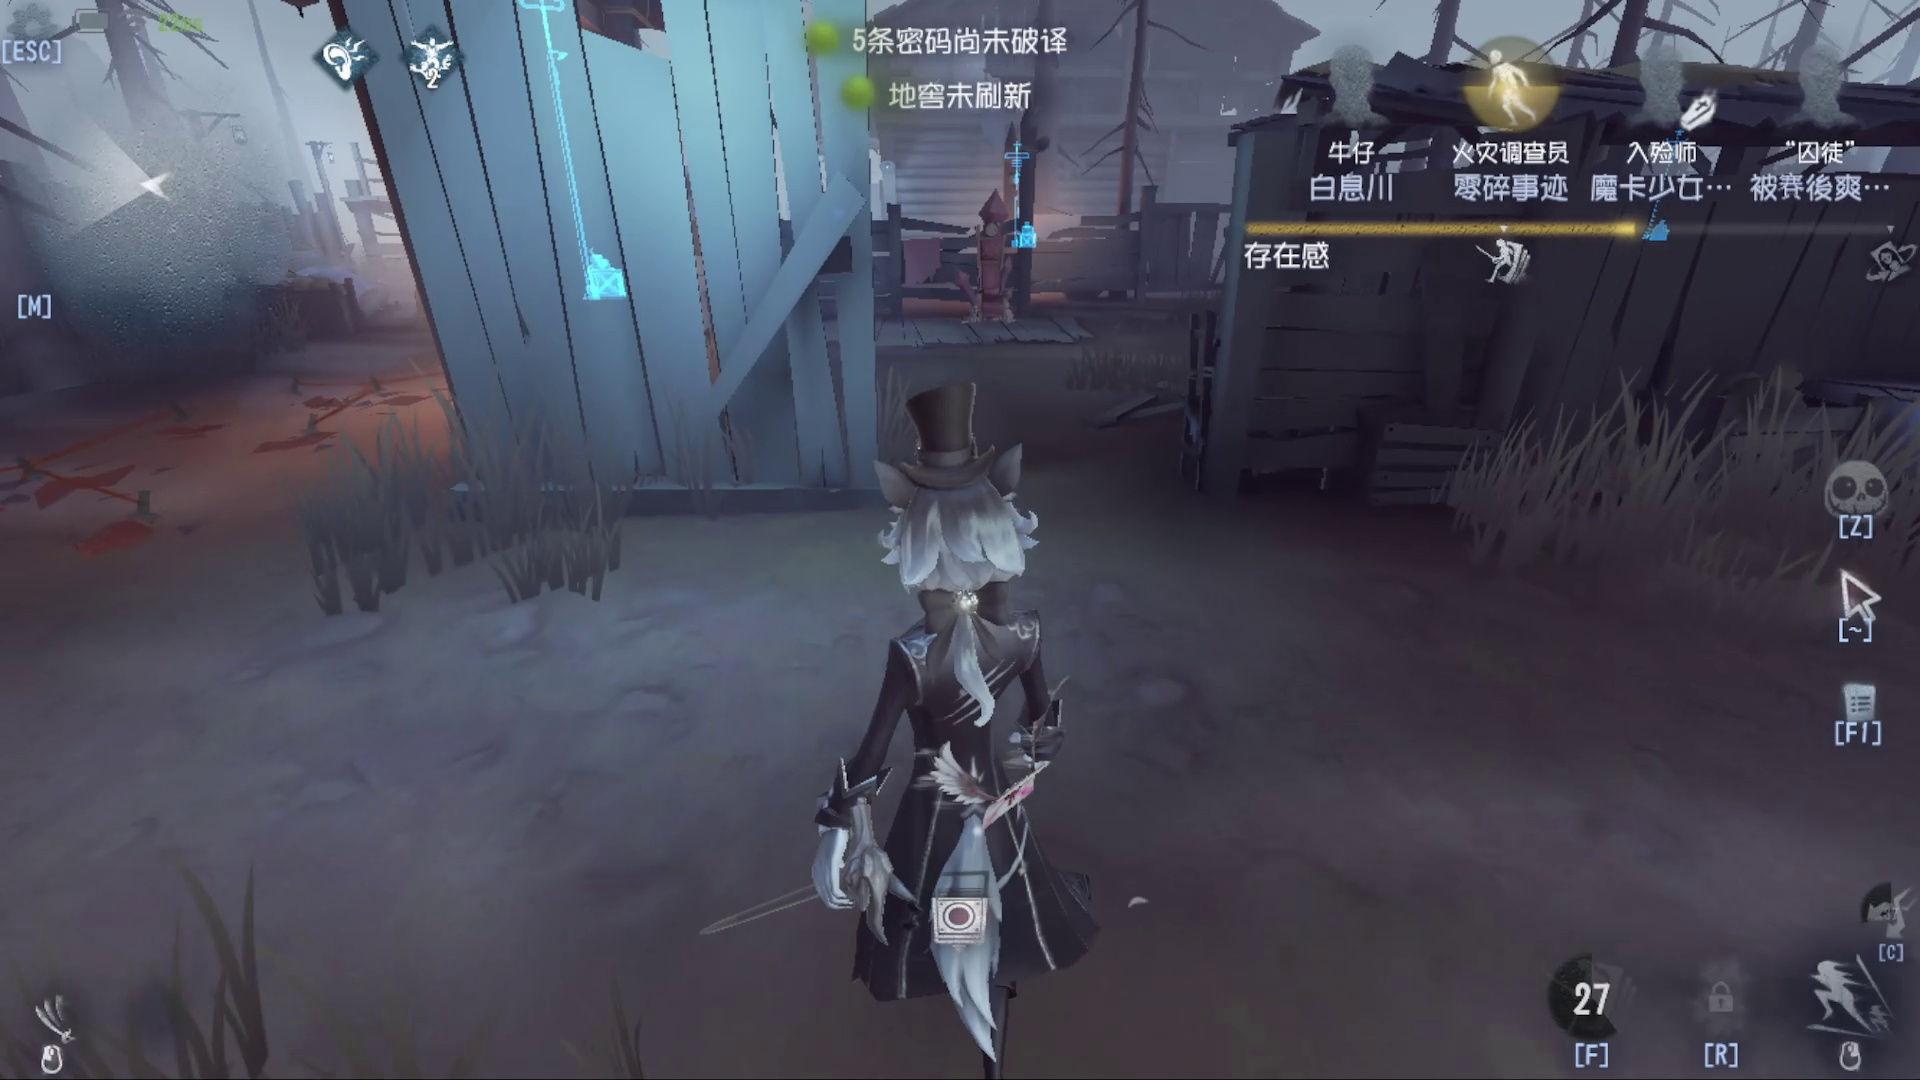密码机: (498, 3, 683, 349)
狂欢之椅: (967, 195, 1038, 347)
脚印: (34, 347, 456, 505)
